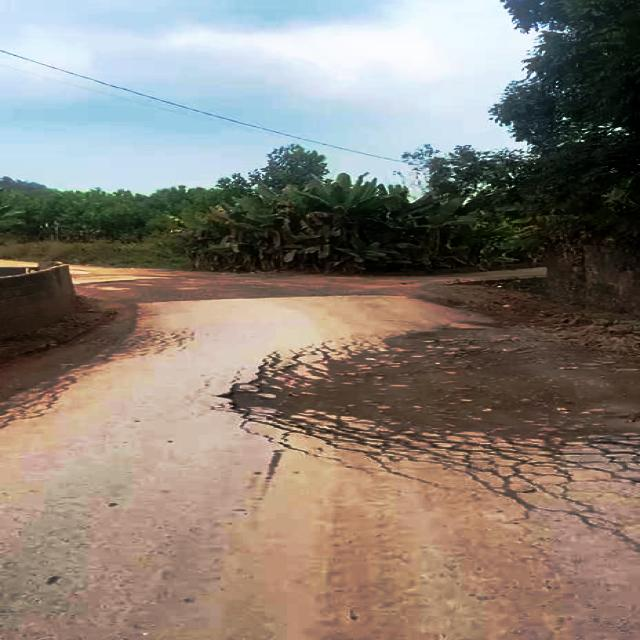pothole: (215, 323, 640, 451)
